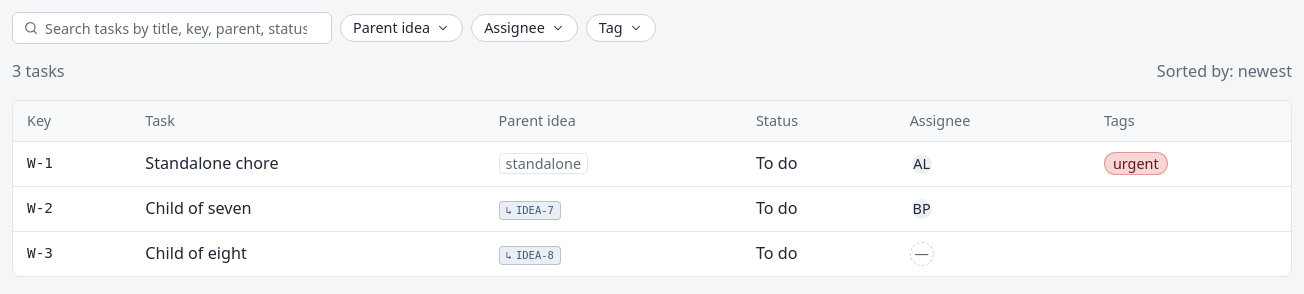
it: BacklogList filters › says how many of the rows match, and that nothing matches
The width and height of the screenshot is (1304, 294).
Type "chore" into the search field labelled "Search tasks".
click(183, 28); type("chore")  # box [45,13,321,43]
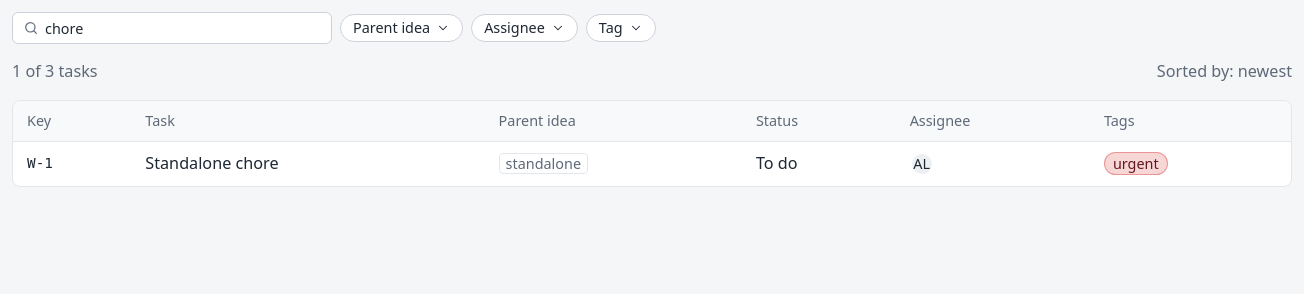
Expected: the message reads "1 of 3 tasks", [12,60,98,82]
Replace the text in the search field named "Search tasks" with "zzz" at (183, 28), box [45,13,321,43]
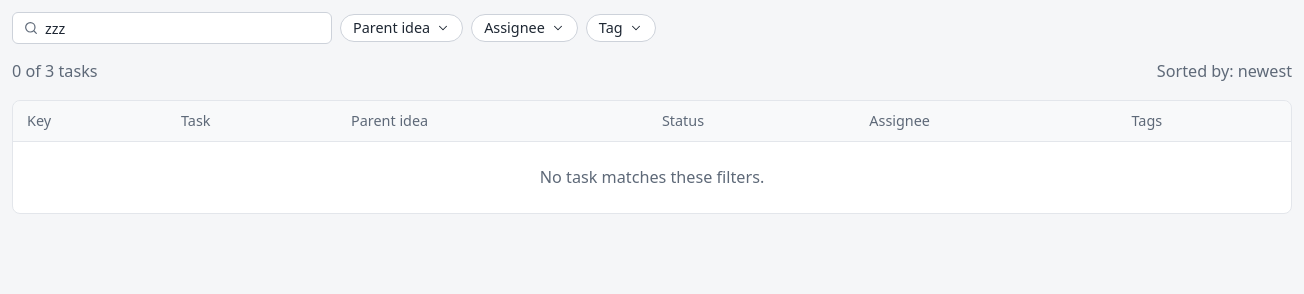
Expected: the text "No task matches these filters." is shown, [13,142,1291,213]
